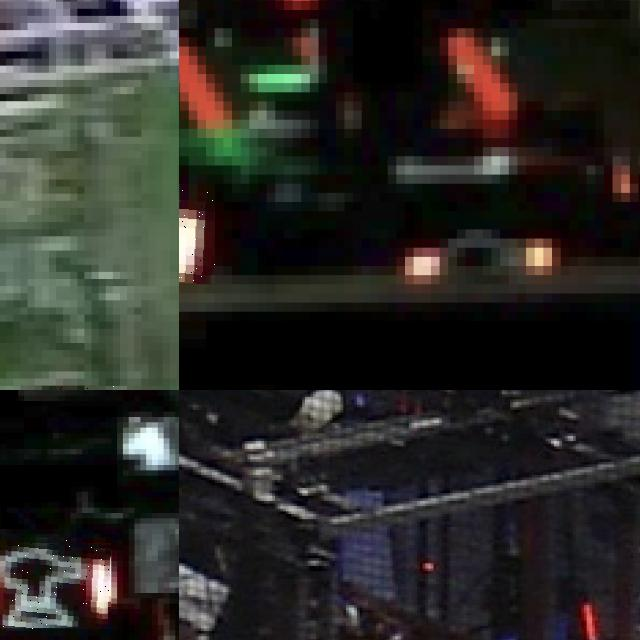Rs: (0, 534, 111, 630), (179, 183, 215, 284)
